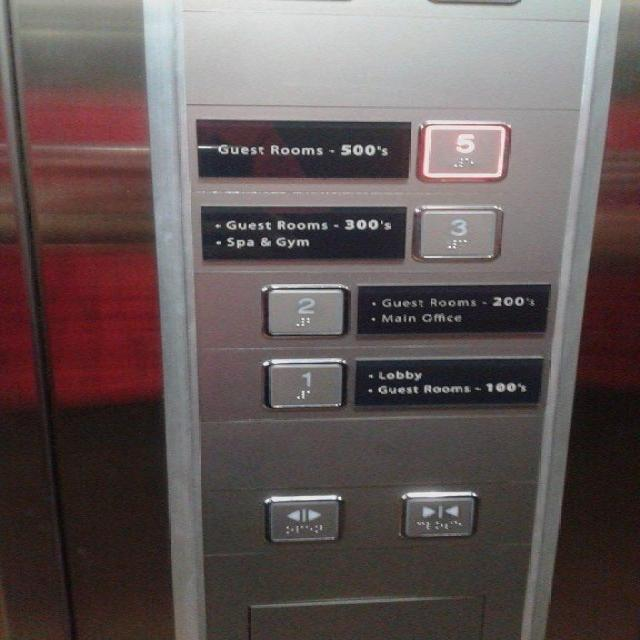1: (256, 354, 348, 411)
2: (256, 280, 352, 343)
3: (408, 199, 504, 264)
5: (412, 116, 512, 184)
close: (397, 489, 479, 541)
open: (258, 491, 346, 546)
